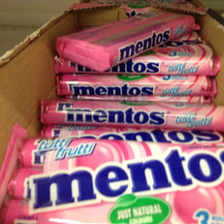candy: (3, 136, 224, 223), (36, 57, 218, 132), (62, 9, 192, 64)
